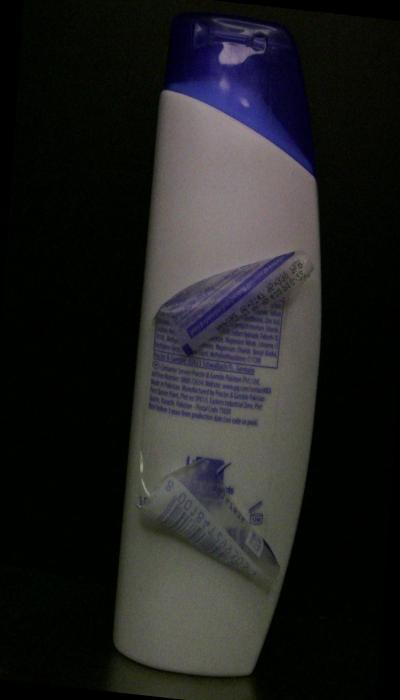adhesion_unacc: (146, 233, 320, 380), (134, 452, 292, 588)
